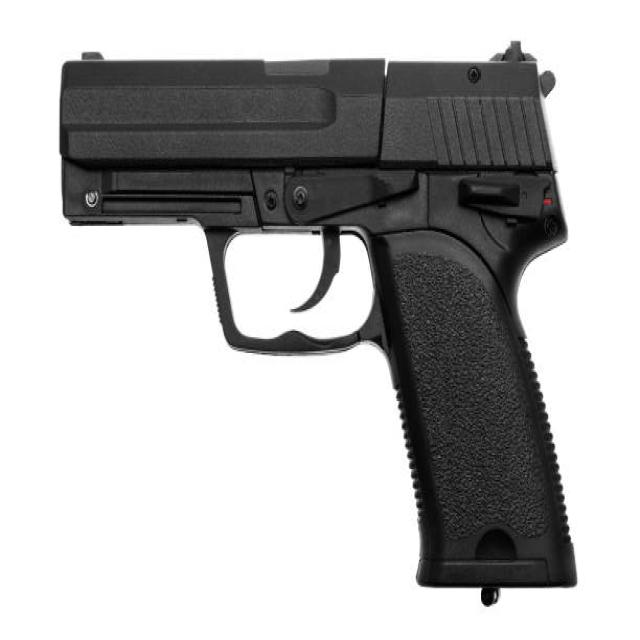pistol: (53, 36, 588, 609)
